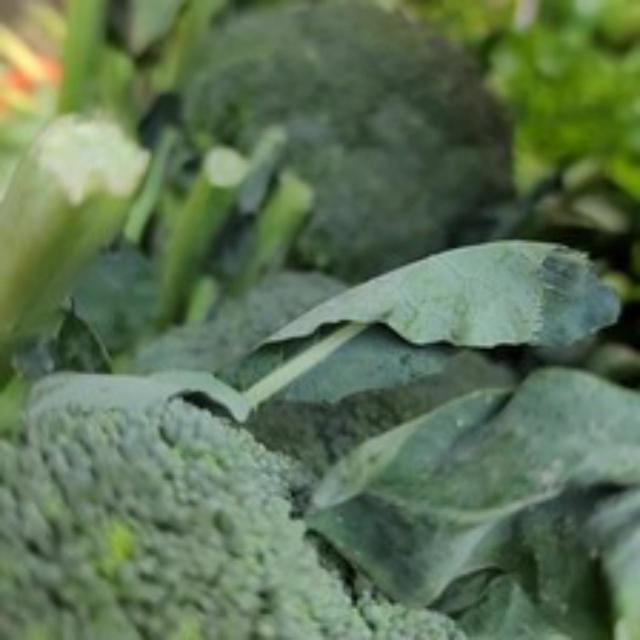broccoli: (0, 354, 381, 640)
